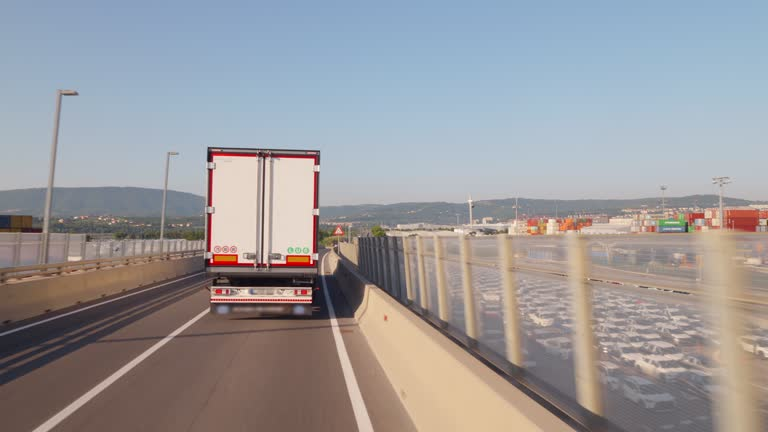Semi: (203, 145, 320, 317)
